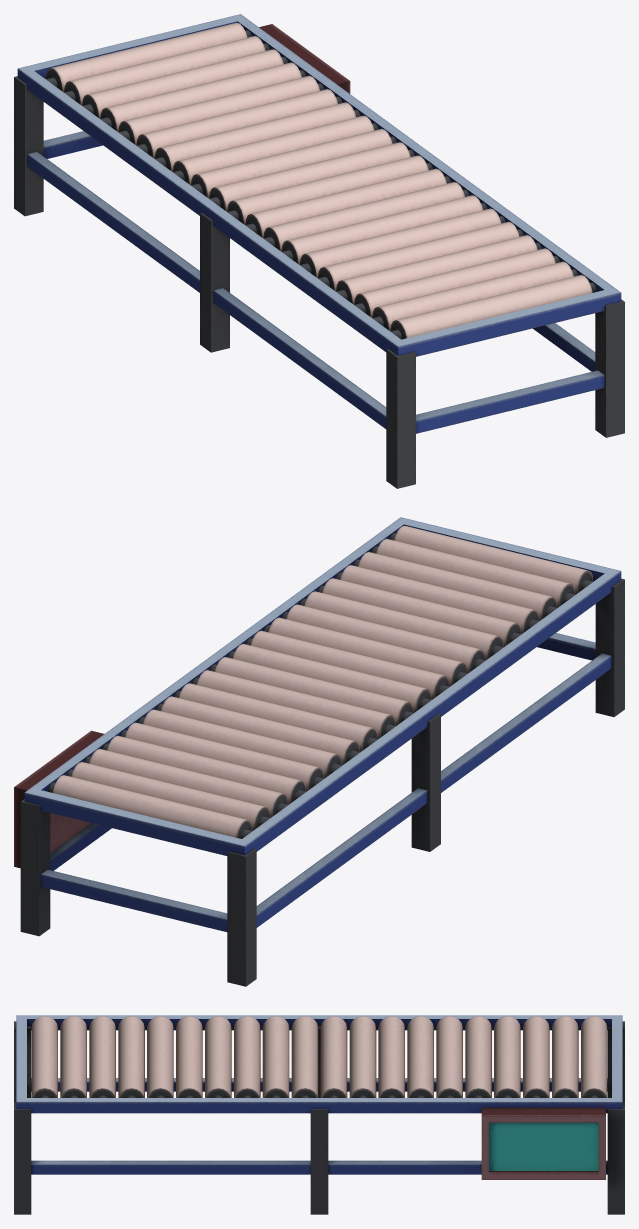
The model's file is Machine_C.FBX.
3 renders of one model, top to bottom at view 1: azimuth 30°, elevation 25°; view 2: azimuth 150°, elevation 25°; view 3: azimuth 270°, elevation 25°, orthographic. The views are drawn at different scales.
Visible parts, largest first — view 1: Machine_C; view 2: Machine_C; view 3: Machine_C.
Part boxes in pixels (left/top/right/bottom): Machine_C: left=14, top=14, right=624, bottom=488; Machine_C: left=14, top=517, right=624, bottom=986; Machine_C: left=14, top=1015, right=624, bottom=1214.
Bounding box in the file's own units: 39.24 × 22.57 × 106.
